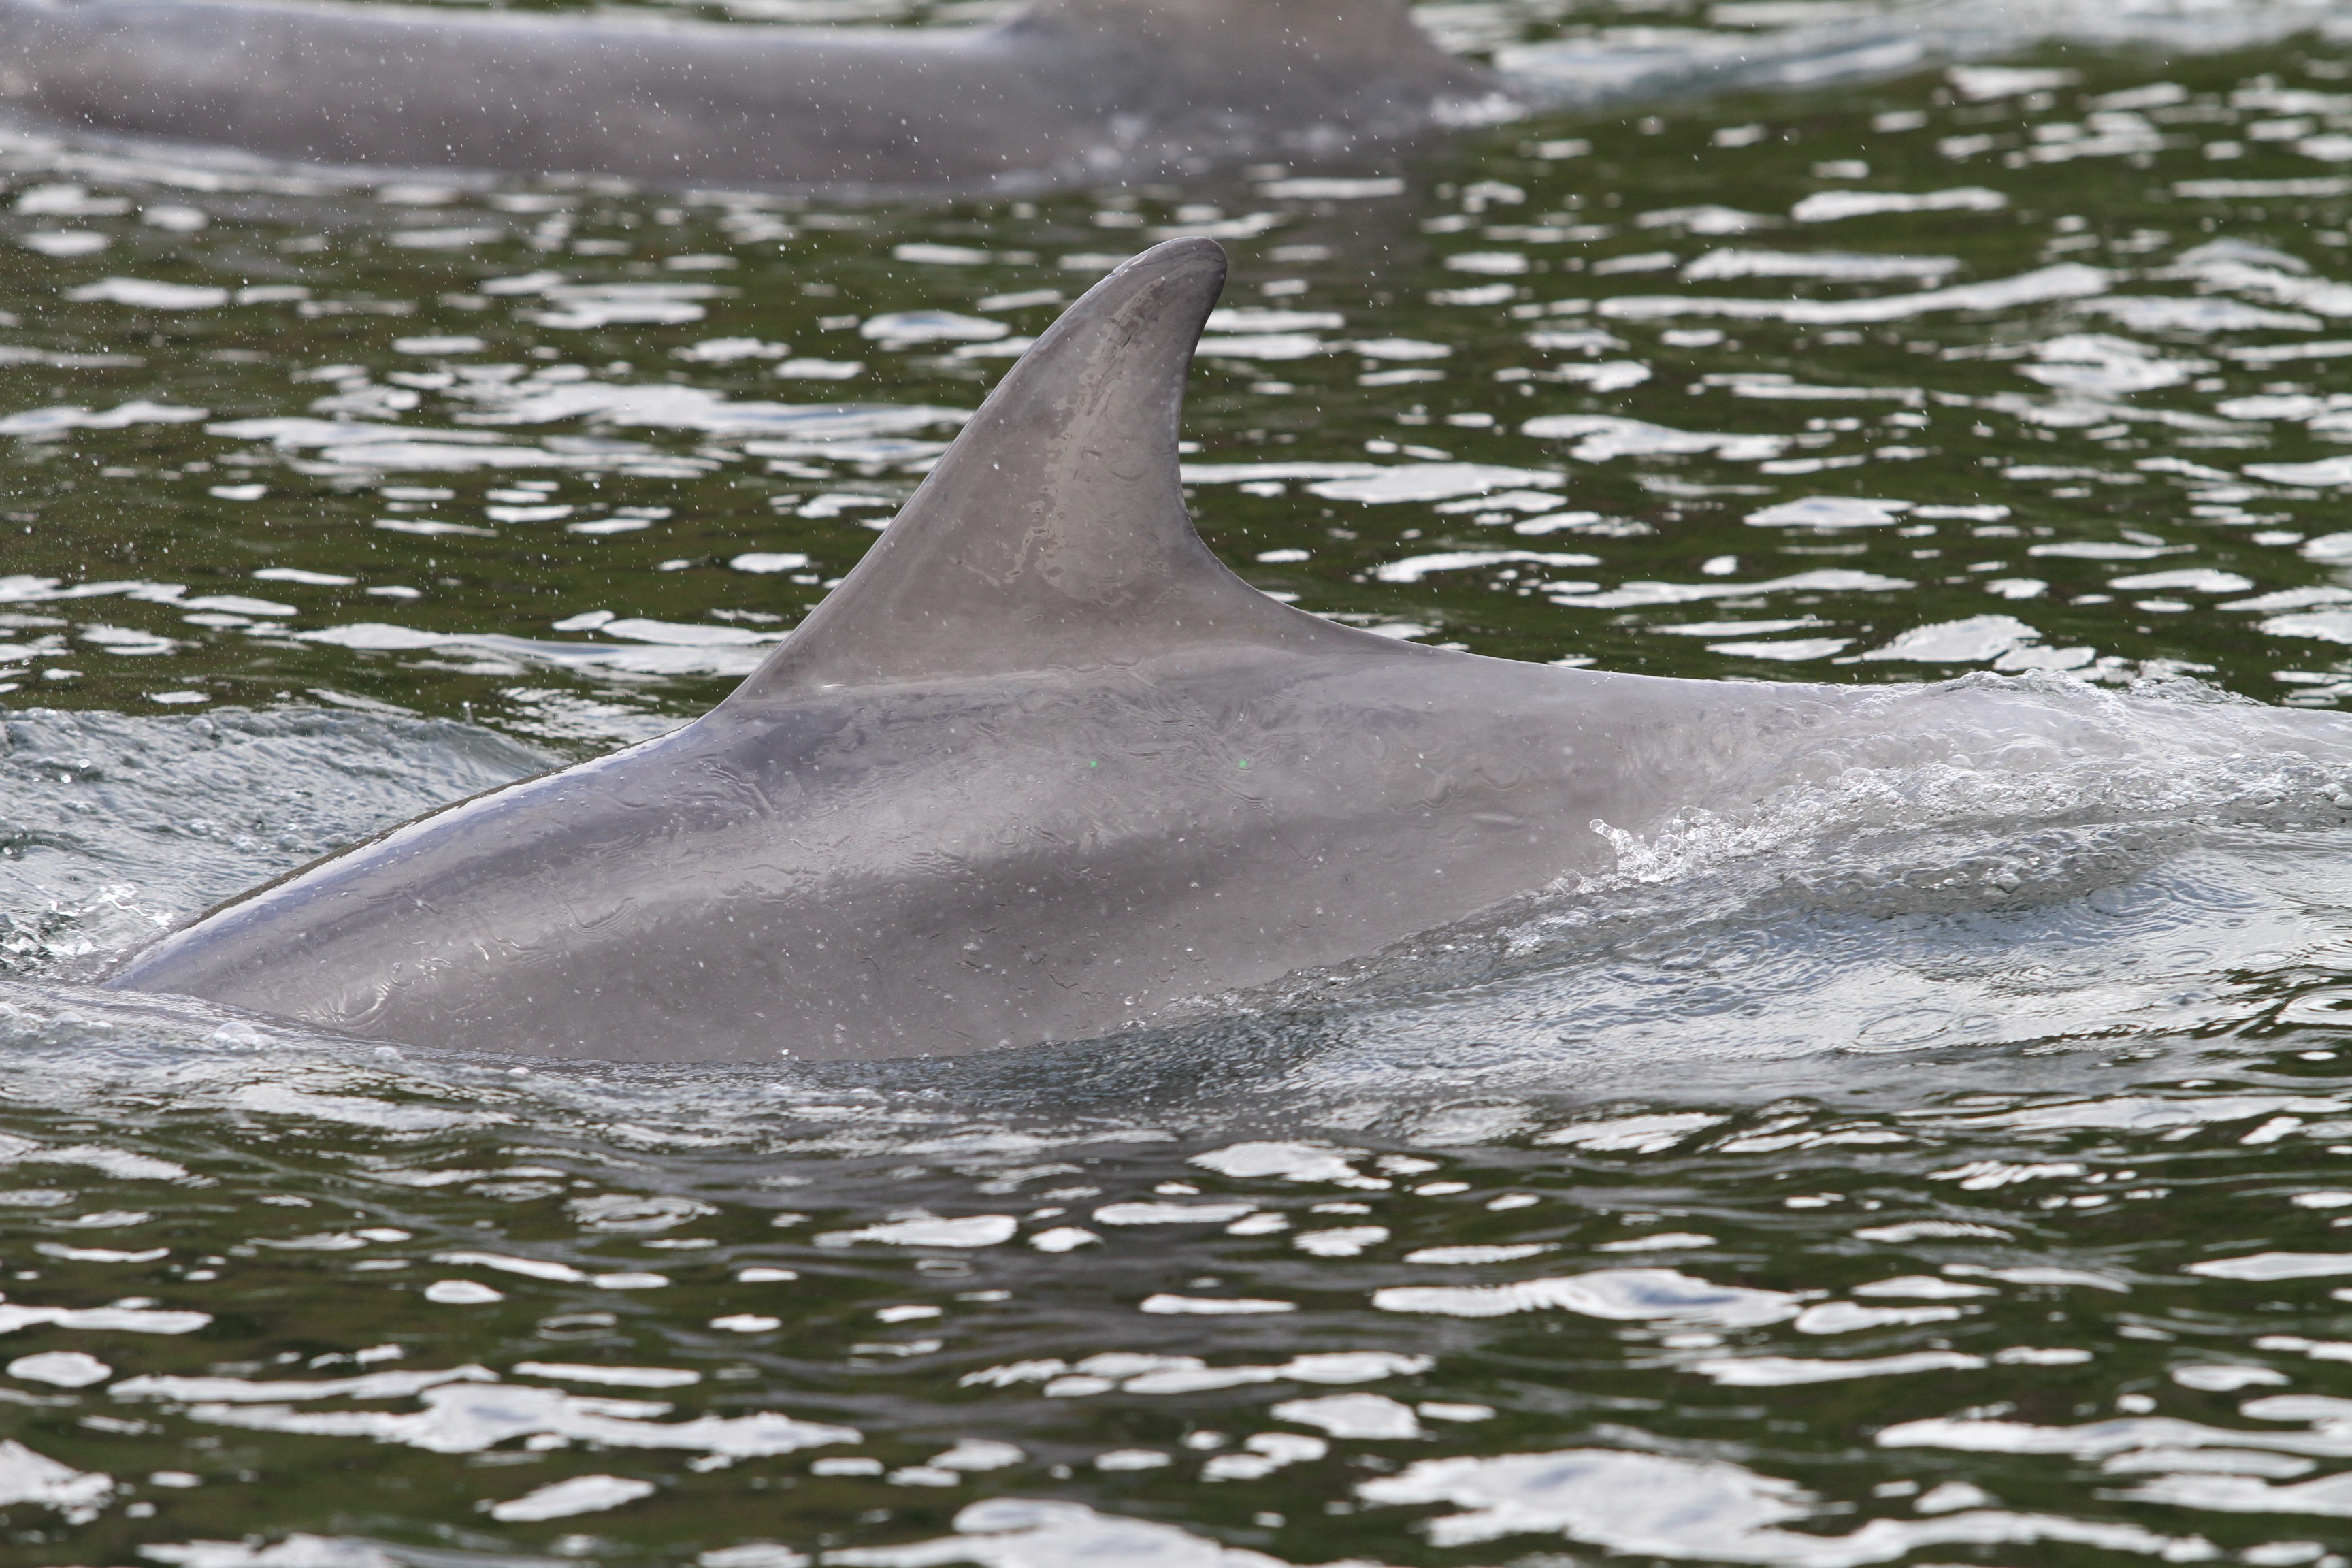fin: (677, 207, 1337, 728)
